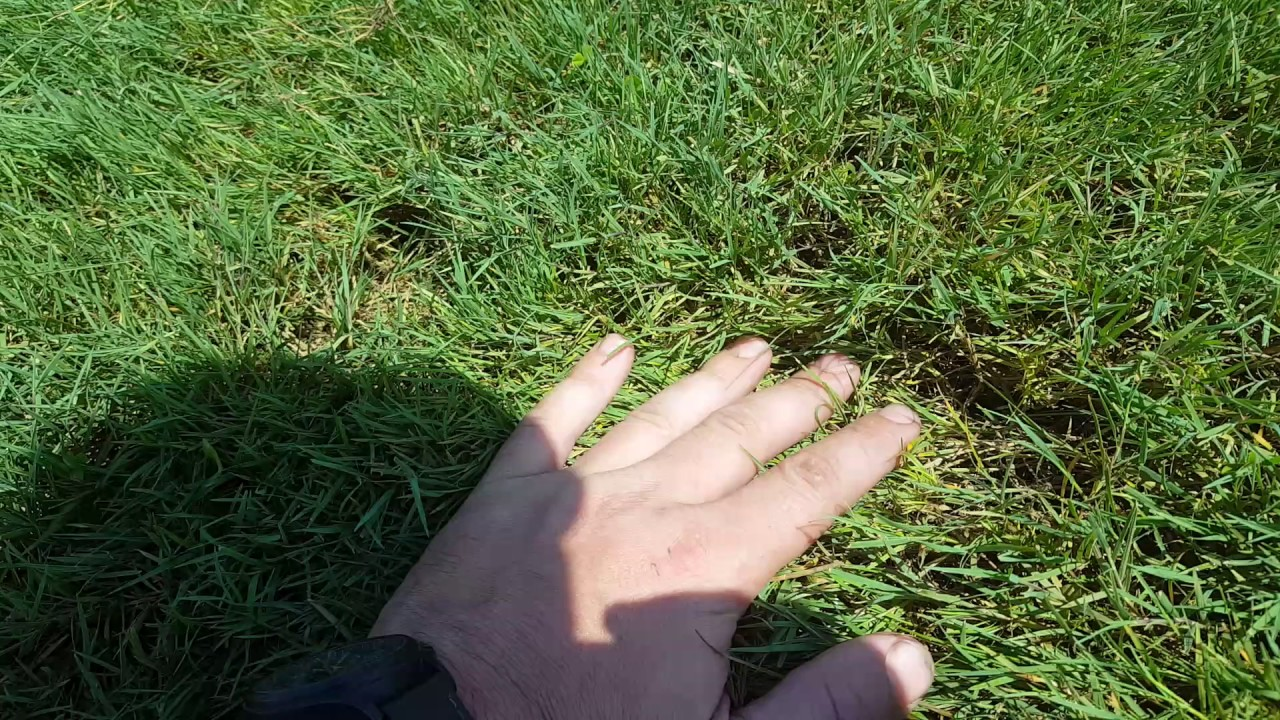crabgrass: (488, 58, 1054, 332), (111, 211, 419, 619), (976, 399, 1278, 720)
